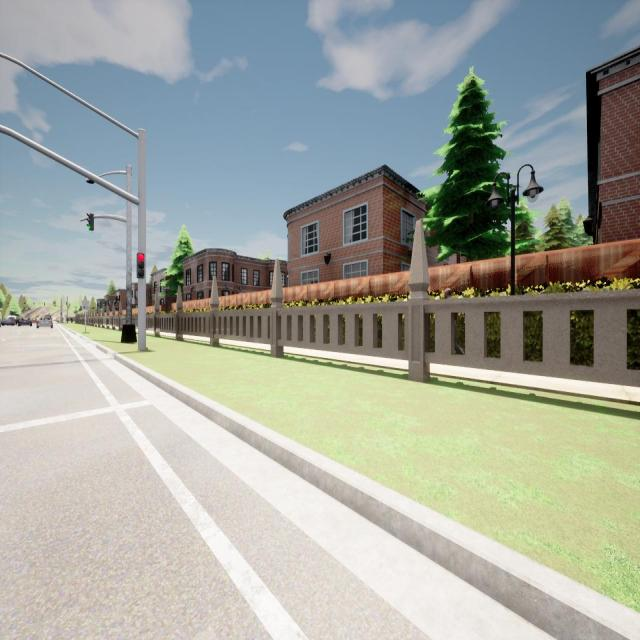Pedestrian: (70, 315, 73, 323)
Traffic_Signs: (82, 300, 90, 311)
Vehicle: (36, 316, 53, 329), (18, 316, 32, 327), (1, 318, 16, 327), (8, 315, 17, 320)
traffic_light: (136, 253, 145, 279), (86, 213, 95, 232), (33, 302, 35, 306), (44, 302, 45, 306), (60, 312, 61, 315)
